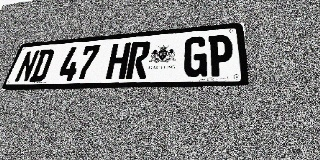4: (57, 46, 83, 81)
7: (74, 45, 100, 81)
D: (29, 49, 55, 82)
G: (183, 36, 207, 77)
H: (105, 42, 131, 80)
N: (14, 50, 40, 83)
P: (208, 34, 234, 77)
R: (125, 41, 151, 79)
